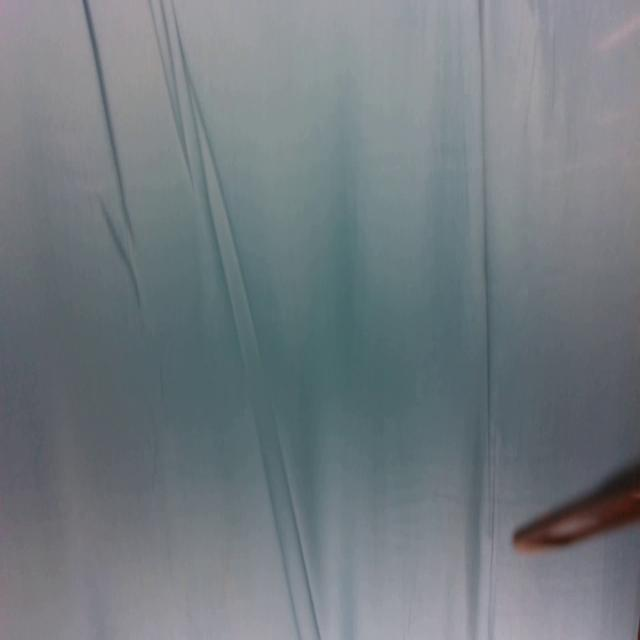crease: (171, 0, 323, 637), (472, 0, 500, 640), (82, 0, 136, 239), (146, 0, 198, 190), (94, 195, 141, 312)
